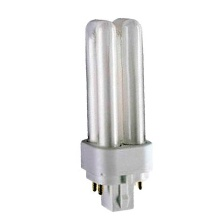light_bulb: (75, 14, 157, 215)
